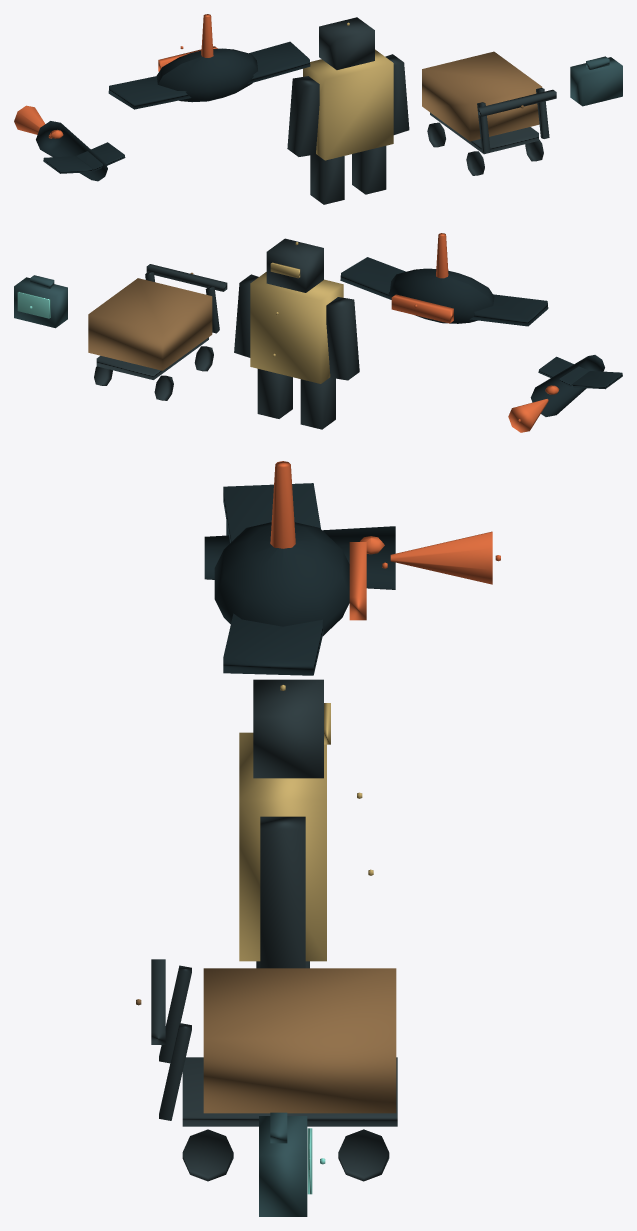
Rendered from lowpass-readability-canary-v1.runtime.glb.
The picture shows the model from 3 angles, top to bottom: view 1: azimuth 30°, elevation 25°; view 2: azimuth 150°, elevation 25°; view 3: azimuth 270°, elevation 25°; orthographic projection. The views are drawn at different scales.
Parts seen in each view (by area): view 1: scene-part--instance-porter-android--porter-torso, scene-part--instance-shopping-cart--cart-basket, scene-part--instance-watcher-drone--watcher-body, scene-part--instance-porter-android--porter-head, scene-part--instance-porter-android--porter-arm-left, scene-part--instance-field-terminal--terminal-body, scene-part--instance-watcher-drone--watcher-wing-left, scene-part--instance-porter-android--porter-leg-left, scene-part--instance-needle-drone--needle-body, scene-part--instance-watcher-drone--watcher-wing-right, scene-part--instance-porter-android--porter-leg-right, scene-part--instance-porter-android--porter-arm-right (+11 smaller); view 2: scene-part--instance-shopping-cart--cart-basket, scene-part--instance-porter-android--porter-torso, scene-part--instance-watcher-drone--watcher-body, scene-part--instance-porter-android--porter-arm-left, scene-part--instance-porter-android--porter-head, scene-part--instance-porter-android--porter-leg-left, scene-part--instance-watcher-drone--watcher-wing-left, scene-part--instance-needle-drone--needle-body, scene-part--instance-porter-android--porter-leg-right, scene-part--instance-field-terminal--terminal-body, scene-part--instance-watcher-drone--watcher-wing-right, scene-part--instance-porter-android--porter-arm-right (+13 smaller); view 3: scene-part--instance-shopping-cart--cart-basket, scene-part--instance-watcher-drone--watcher-body, scene-part--instance-porter-android--porter-torso, scene-part--instance-porter-android--porter-head, scene-part--instance-porter-android--porter-arm-right, scene-part--instance-watcher-drone--watcher-wing-right, scene-part--instance-field-terminal--terminal-body, scene-part--instance-shopping-cart--cart-frame, scene-part--instance-watcher-drone--watcher-wing-left, scene-part--instance-needle-drone--needle-nose, scene-part--instance-needle-drone--needle-body, scene-part--instance-shopping-cart--cart-wheel-rear-right (+6 smaller).
Part boxes in pixels (x1,y1,x2,y2): scene-part--instance-porter-android--porter-torso: [303, 49, 393, 160]; scene-part--instance-shopping-cart--cart-basket: [422, 51, 542, 141]; scene-part--instance-watcher-drone--watcher-body: [156, 48, 257, 102]; scene-part--instance-porter-android--porter-head: [319, 17, 374, 69]; scene-part--instance-porter-android--porter-arm-left: [287, 76, 319, 156]; scene-part--instance-field-terminal--terminal-body: [570, 57, 622, 106]; scene-part--instance-watcher-drone--watcher-wing-left: [108, 76, 191, 109]; scene-part--instance-porter-android--porter-leg-left: [310, 154, 344, 204]; scene-part--instance-needle-drone--needle-body: [36, 121, 107, 181]; scene-part--instance-watcher-drone--watcher-wing-right: [248, 41, 310, 83]; scene-part--instance-porter-android--porter-leg-right: [352, 146, 386, 194]; scene-part--instance-porter-android--porter-arm-right: [385, 54, 409, 134]; scene-part--instance-shopping-cart--cart-basket: [88, 278, 212, 370]; scene-part--instance-porter-android--porter-torso: [250, 272, 343, 383]; scene-part--instance-watcher-drone--watcher-body: [388, 268, 494, 323]; scene-part--instance-porter-android--porter-arm-left: [326, 297, 359, 380]; scene-part--instance-porter-android--porter-head: [266, 238, 323, 292]; scene-part--instance-porter-android--porter-leg-left: [300, 377, 335, 429]; scene-part--instance-watcher-drone--watcher-wing-left: [470, 294, 548, 326]; scene-part--instance-needle-drone--needle-body: [530, 355, 604, 416]; scene-part--instance-porter-android--porter-leg-right: [257, 369, 292, 418]; scene-part--instance-field-terminal--terminal-body: [14, 277, 67, 328]; scene-part--instance-watcher-drone--watcher-wing-right: [340, 257, 405, 299]; scene-part--instance-porter-android--porter-arm-right: [234, 274, 258, 357]; scene-part--instance-shopping-cart--cart-basket: [203, 968, 396, 1113]; scene-part--instance-watcher-drone--watcher-body: [214, 522, 349, 635]; scene-part--instance-porter-android--porter-torso: [239, 732, 326, 961]; scene-part--instance-porter-android--porter-head: [253, 679, 323, 778]; scene-part--instance-porter-android--porter-arm-right: [260, 816, 305, 968]; scene-part--instance-watcher-drone--watcher-wing-right: [223, 613, 323, 675]; scene-part--instance-field-terminal--terminal-body: [259, 1116, 307, 1216]; scene-part--instance-shopping-cart--cart-frame: [182, 1057, 397, 1126]; scene-part--instance-watcher-drone--watcher-wing-left: [223, 483, 320, 543]; scene-part--instance-needle-drone--needle-nose: [390, 531, 492, 584]; scene-part--instance-needle-drone--needle-body: [204, 526, 395, 589]; scene-part--instance-shopping-cart--cart-wheel-rear-right: [182, 1129, 233, 1181].
Size of what is drawn, in the model's own units: 9.31 by 3.29 by 2.58.
